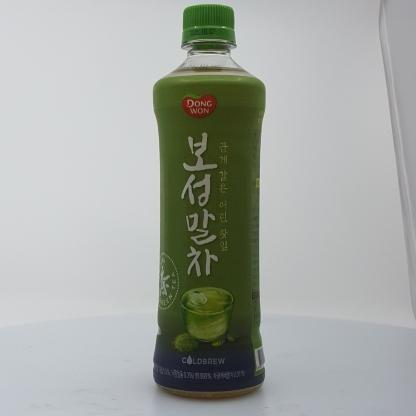------500ML: (153, 4, 266, 399)
